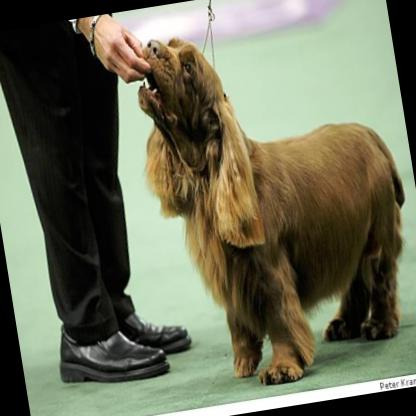Sussex_spaniel: (116, 0, 416, 406)
